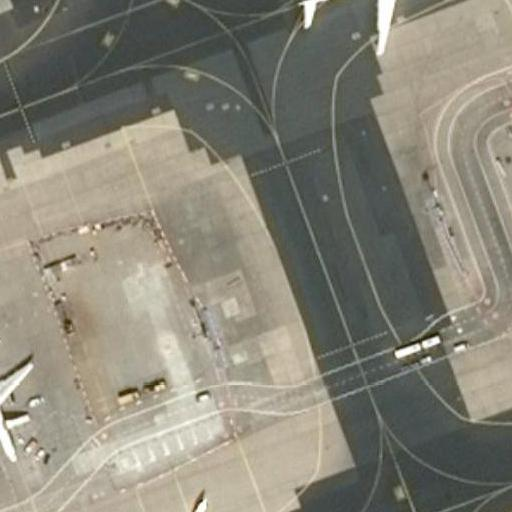Aircraft: (276, 0, 457, 55), (280, 0, 456, 55), (0, 323, 38, 464), (0, 320, 37, 460), (100, 491, 300, 512), (98, 495, 298, 512)
